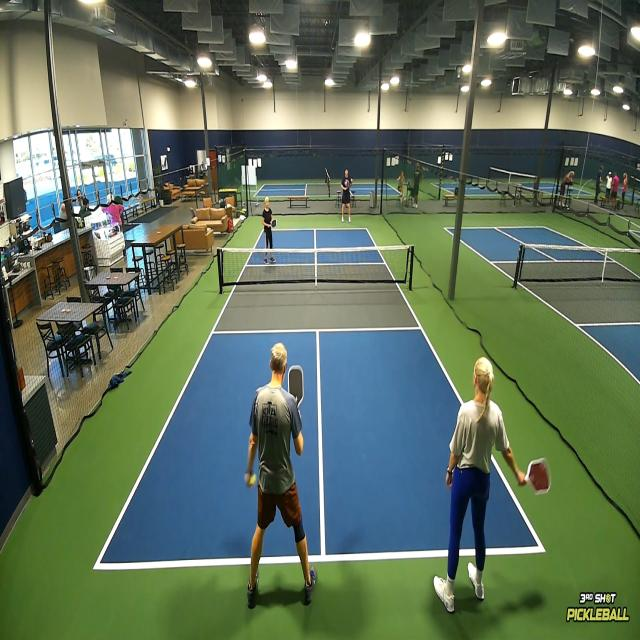Pickleball: (249, 470, 257, 488)
